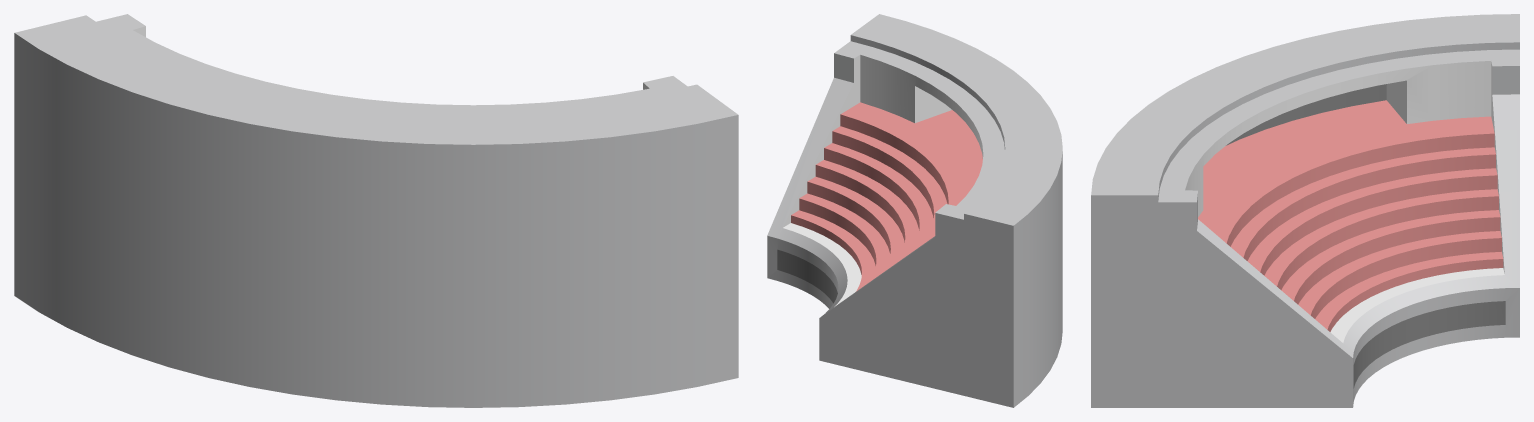
The model's file is grandStandRound.gltf.
3 views of the same model, side by side, from view 1: azimuth 30°, elevation 25°; view 2: azimuth 150°, elevation 25°; view 3: azimuth 270°, elevation 25° (orthographic). The views are drawn at different scales.
Parts seen in each view (by area): view 1: grandStandRound; view 2: grandStandRound; view 3: grandStandRound.
Part boxes in pixels (left/top/right/bottom): grandStandRound: left=14, top=14, right=738, bottom=407; grandStandRound: left=767, top=14, right=1062, bottom=407; grandStandRound: left=1091, top=14, right=1519, bottom=407.
Bounding box in the file's own units: 16.37 × 8.96 × 16.37.
